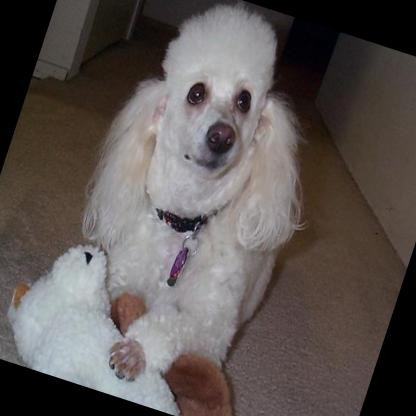miniature_poodle: (30, 0, 367, 416), (0, 220, 225, 416)
